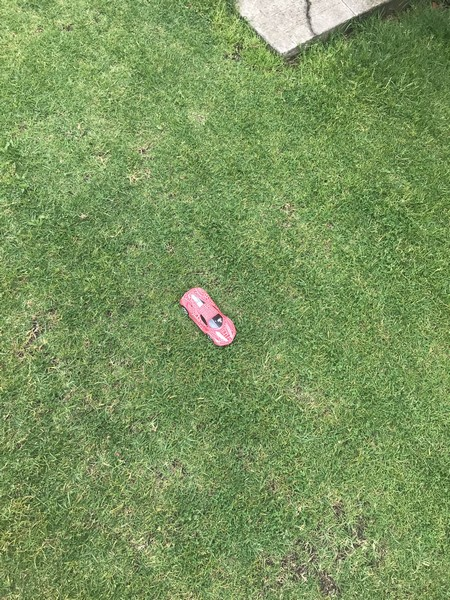RC: (179, 286, 239, 349)
